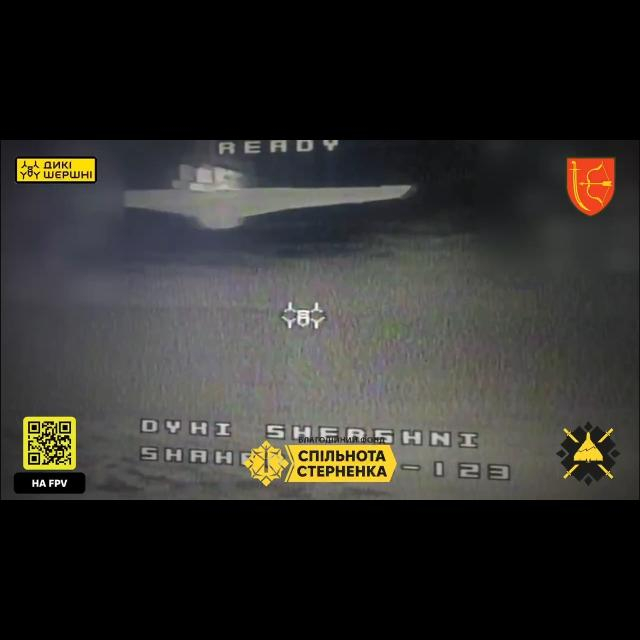Gerbera: (125, 164, 415, 232)
